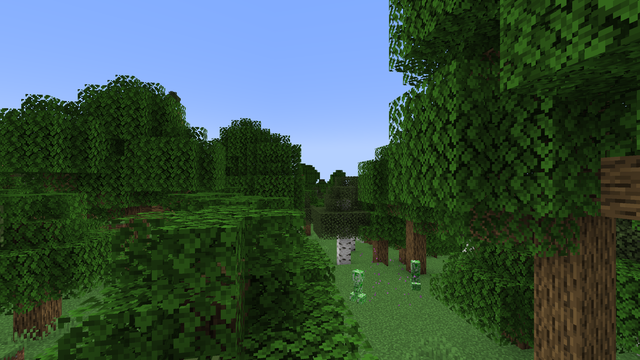creepers: (351, 267, 365, 303), (408, 258, 422, 289)
